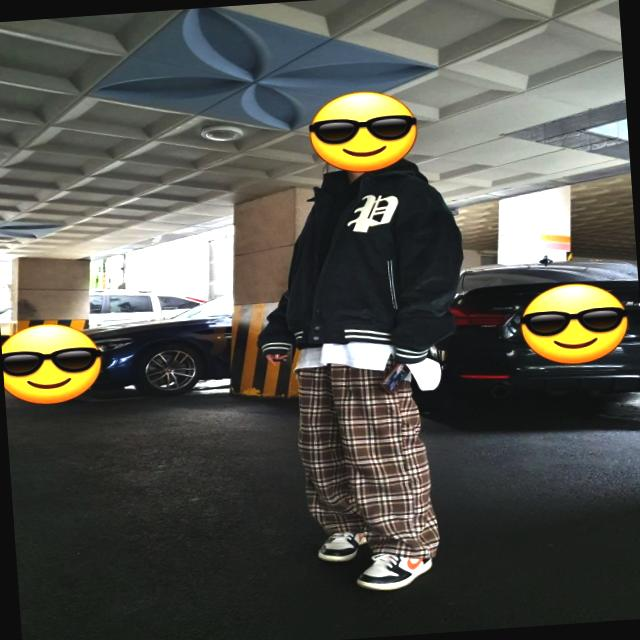cottonpants: (292, 354, 442, 562)
jacket: (242, 158, 468, 380)
